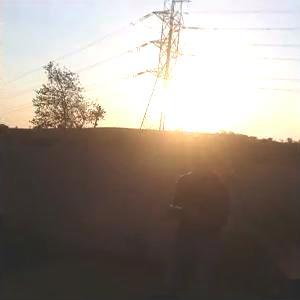follow: (161, 133, 232, 299)
